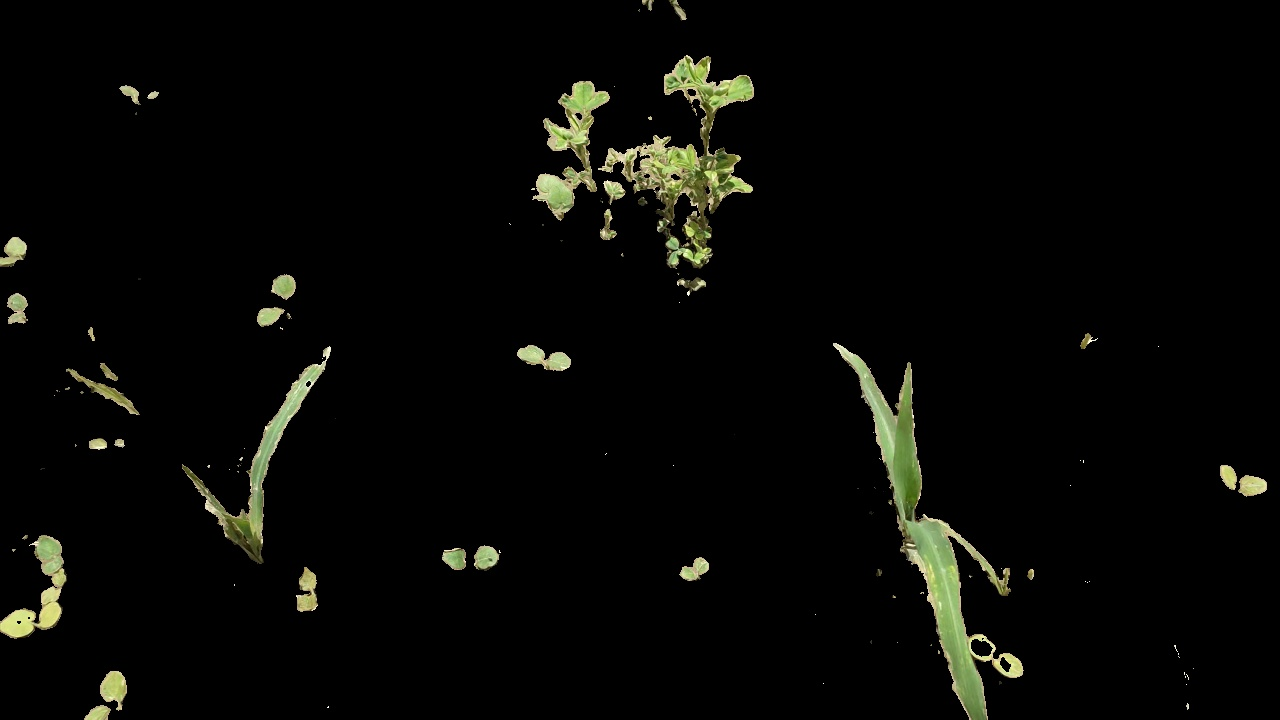crop: (833, 338, 1010, 601), (178, 344, 338, 559)
weed: (531, 48, 766, 296), (2, 533, 76, 641), (242, 266, 300, 335), (440, 537, 505, 577), (83, 672, 136, 720), (970, 630, 1023, 678), (514, 341, 572, 375), (1218, 461, 1267, 499), (293, 565, 325, 612), (675, 548, 716, 584), (112, 83, 166, 110), (1, 236, 27, 276), (5, 293, 33, 327)
